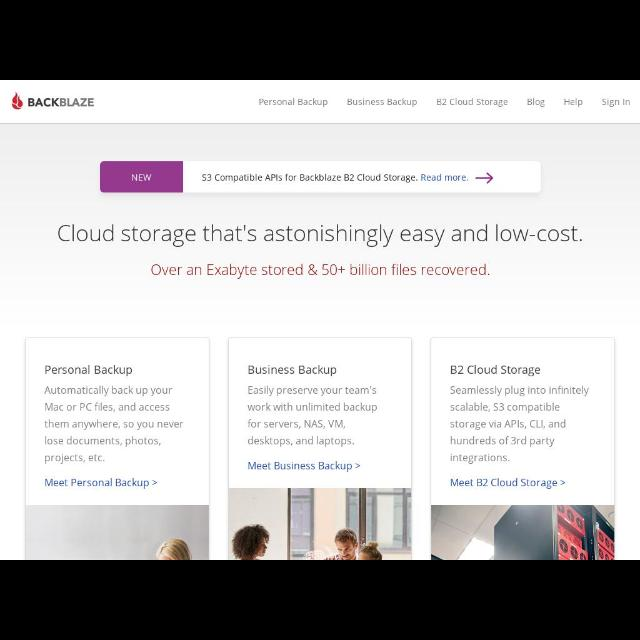icon: (475, 173, 493, 185), (560, 480, 566, 486), (152, 480, 158, 486), (356, 462, 360, 468)
image: (228, 488, 410, 560), (432, 505, 616, 559), (24, 506, 208, 558), (10, 92, 24, 111)
input: (184, 162, 542, 192)
text: (448, 386, 590, 466), (44, 386, 184, 466), (57, 224, 583, 244), (248, 384, 378, 448), (151, 264, 491, 278), (202, 174, 470, 182), (450, 477, 558, 491), (248, 461, 352, 475), (451, 364, 541, 378), (46, 478, 150, 490), (44, 364, 132, 376), (248, 366, 338, 376), (437, 98, 509, 110), (260, 98, 328, 108), (29, 98, 95, 108), (347, 100, 417, 106), (602, 98, 630, 108), (526, 97, 544, 107), (132, 173, 150, 183), (565, 99, 581, 107)
textbutton: (100, 162, 184, 190)
toolbar: (1, 81, 639, 123)
